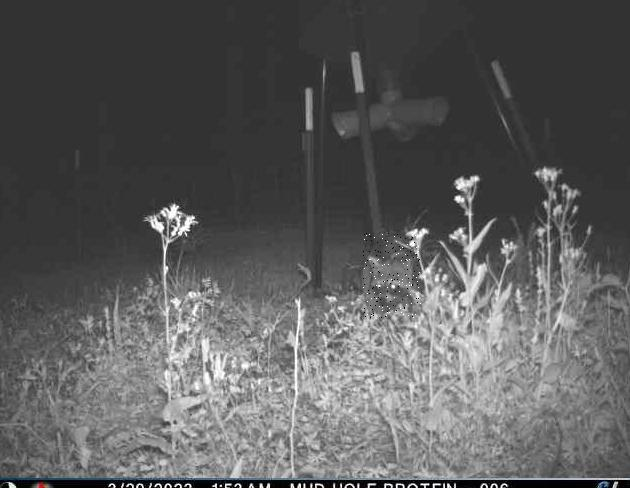Raccoon: (363, 233, 421, 319)
